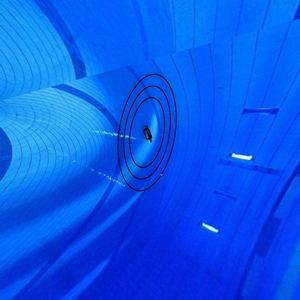circle: (117, 69, 185, 197)
submarine: (144, 123, 158, 146)
